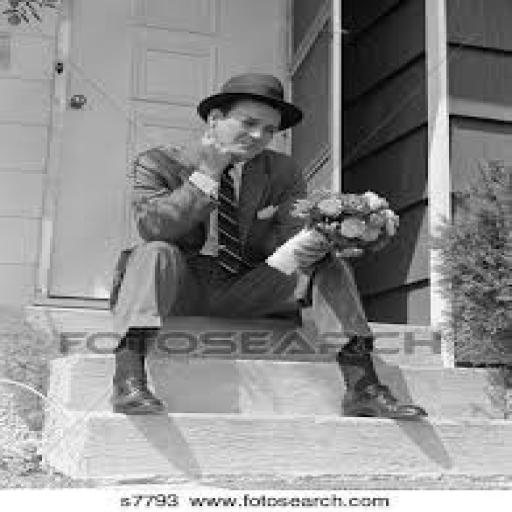sitting: (102, 69, 428, 421)
